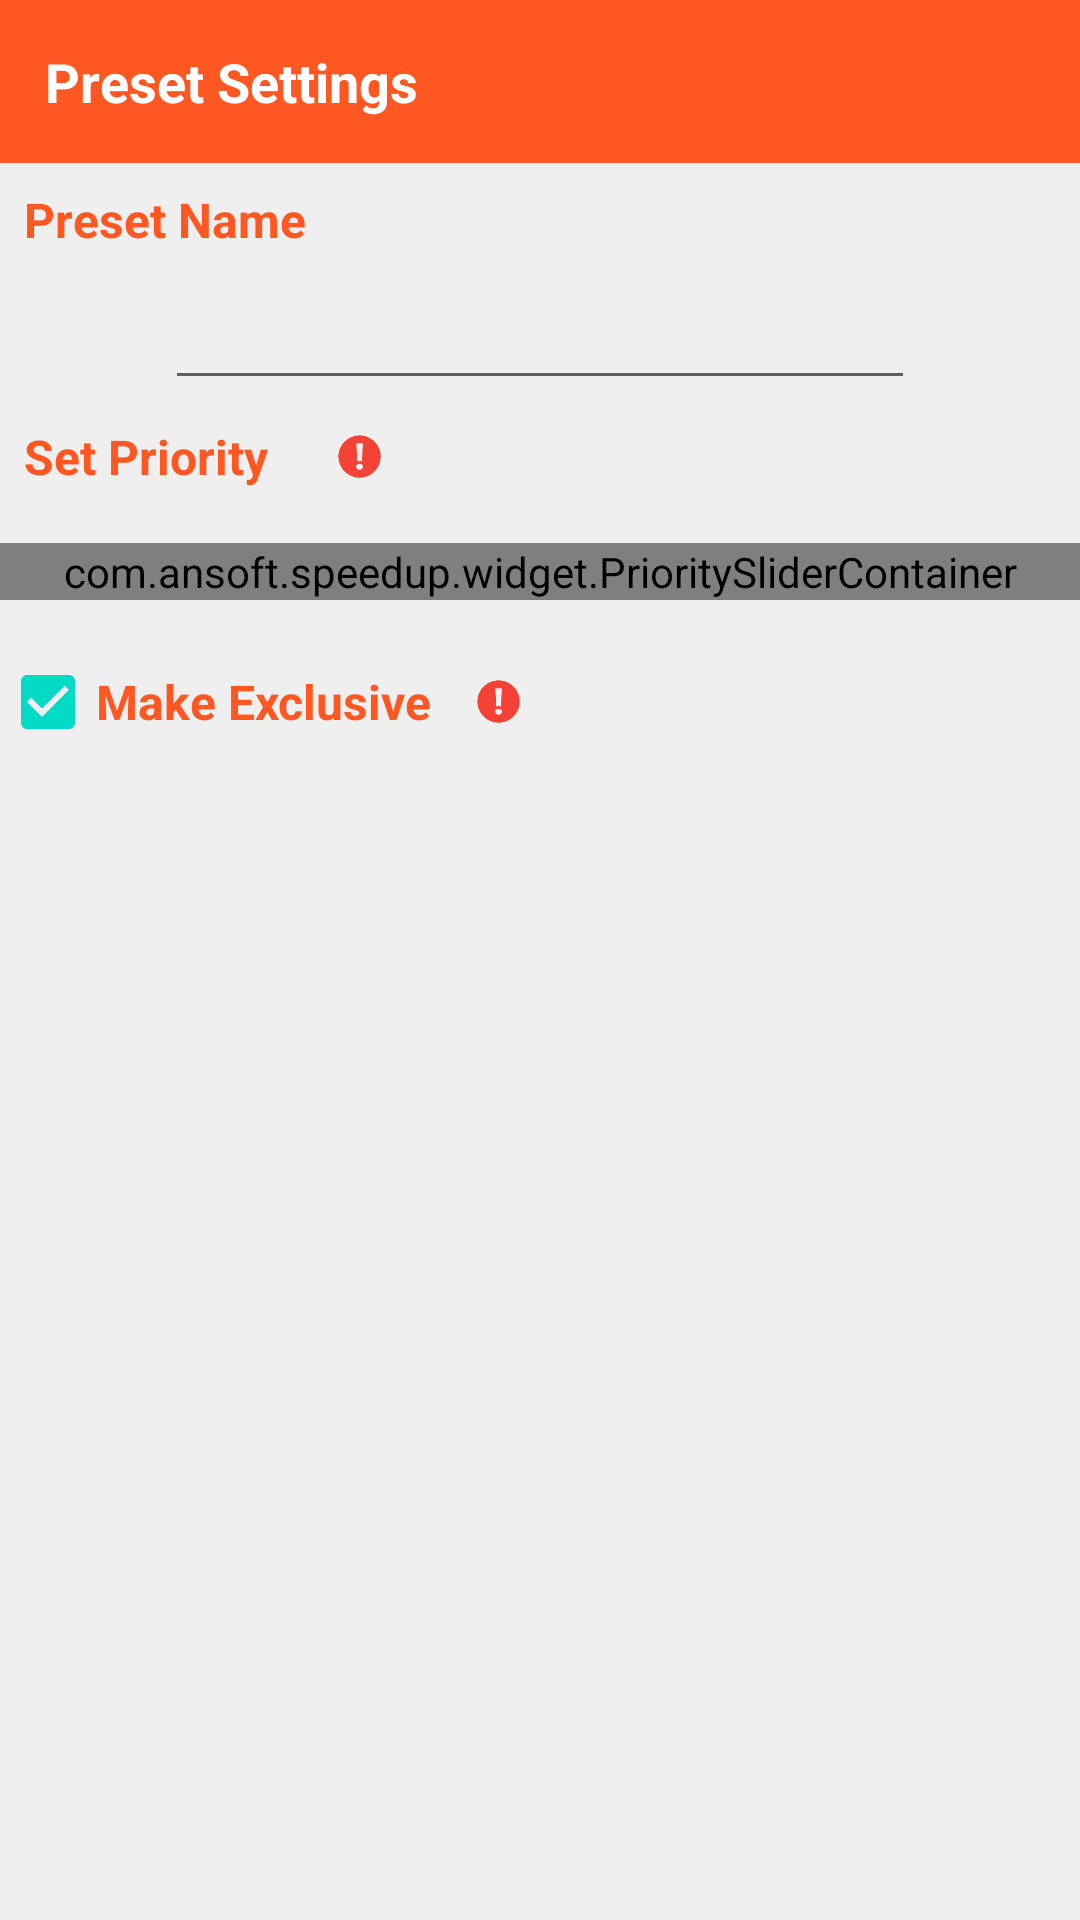

Icons on this 1080×1920 Android screen, each with the point to tap as point (x, y):
hint: point (359, 456), point (498, 701)
